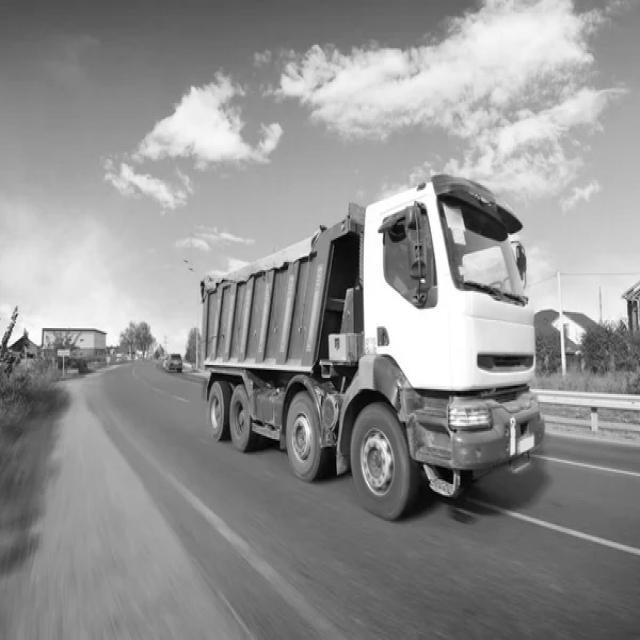Truck: (201, 174, 546, 518)
